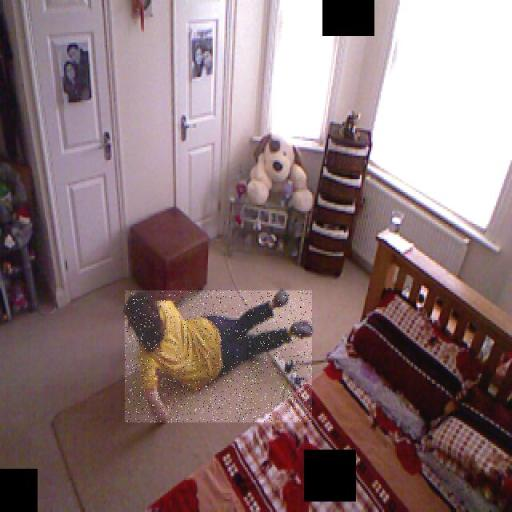Fall: (125, 291, 312, 423)
